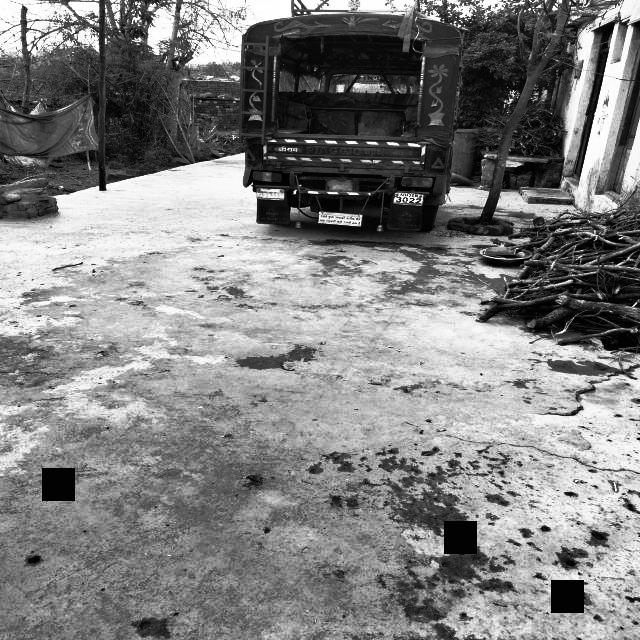Auto-Rickshaw: (231, 0, 444, 230)
